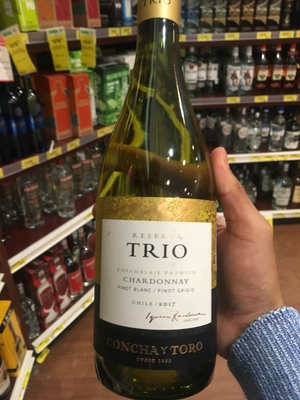trio chardonnay: (88, 27, 224, 374)
